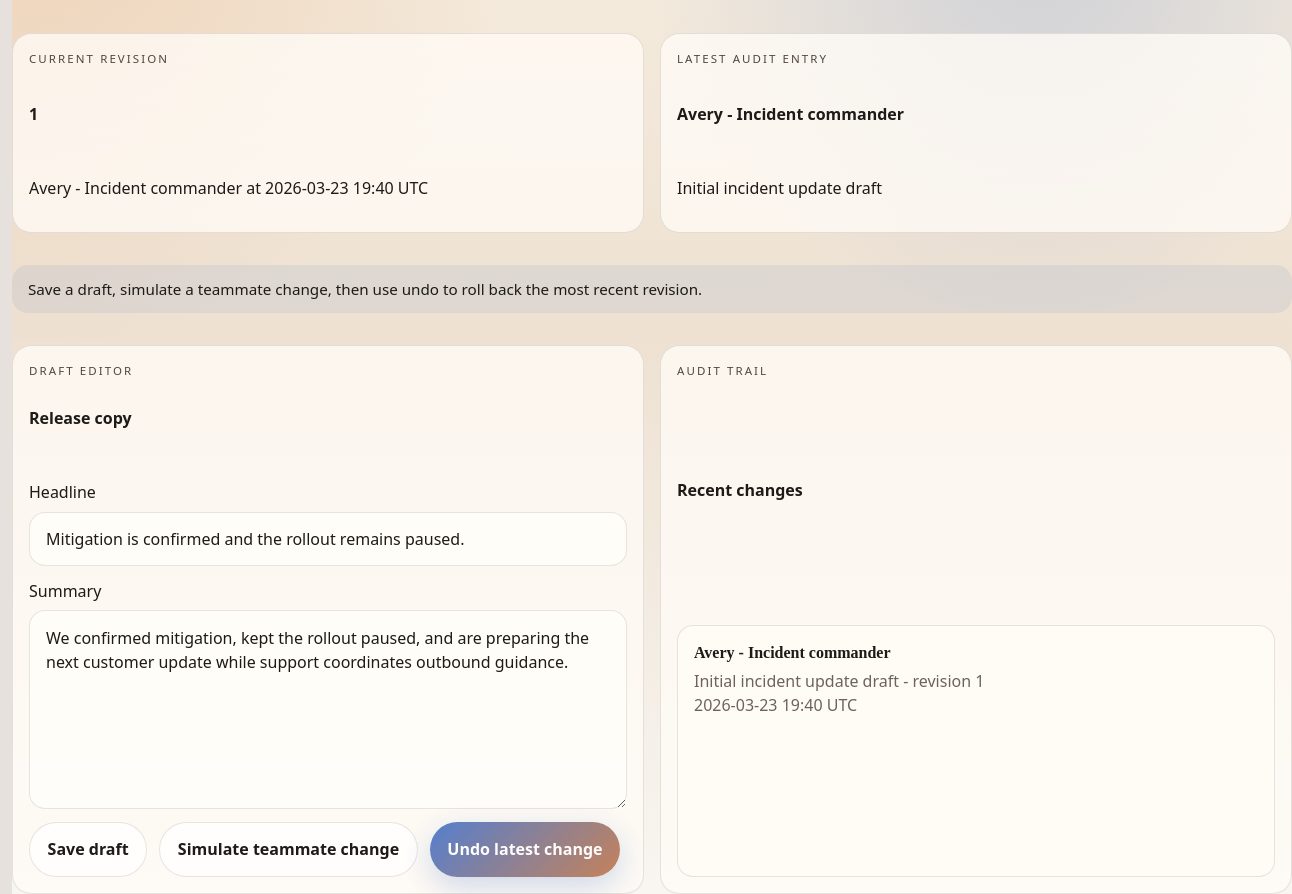
release audit history and undo › undoes the most recent change and restores the prior revision
(page scrolled)
Step 1. Click the button "Simulate teammate change" → [288, 849], box [159,822,418,877]
Wait 240 ms
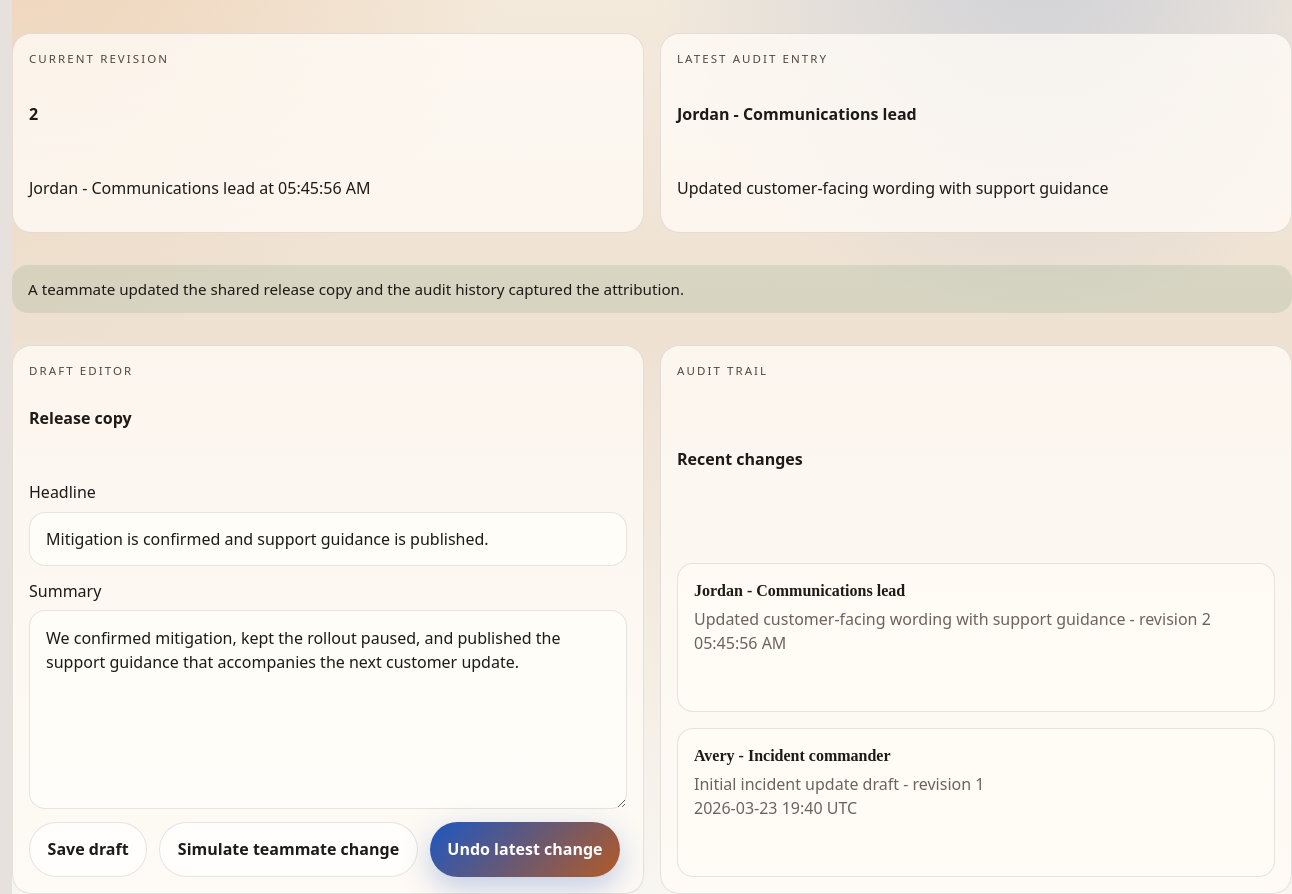
Step 2. Click the button "Undo latest change" → [525, 849], box [430,822,620,877]
Wait 240 ms
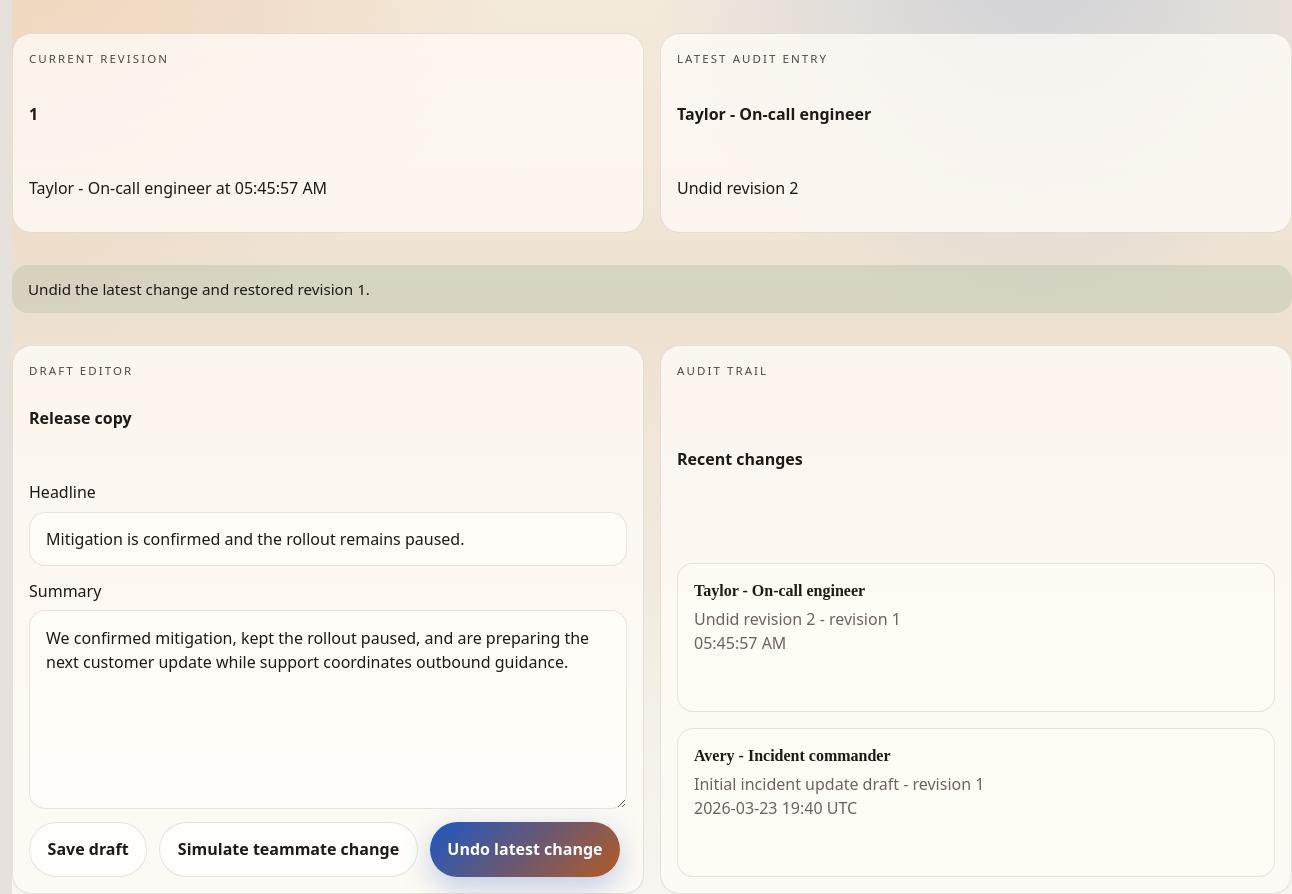
Result: the text "Undid the latest change and restored revision 1." is shown at [12,265,1291,313]
Result: the field showing "Mitigation is confirmed and the rollout remains paused." is shown at [29,512,627,566]
